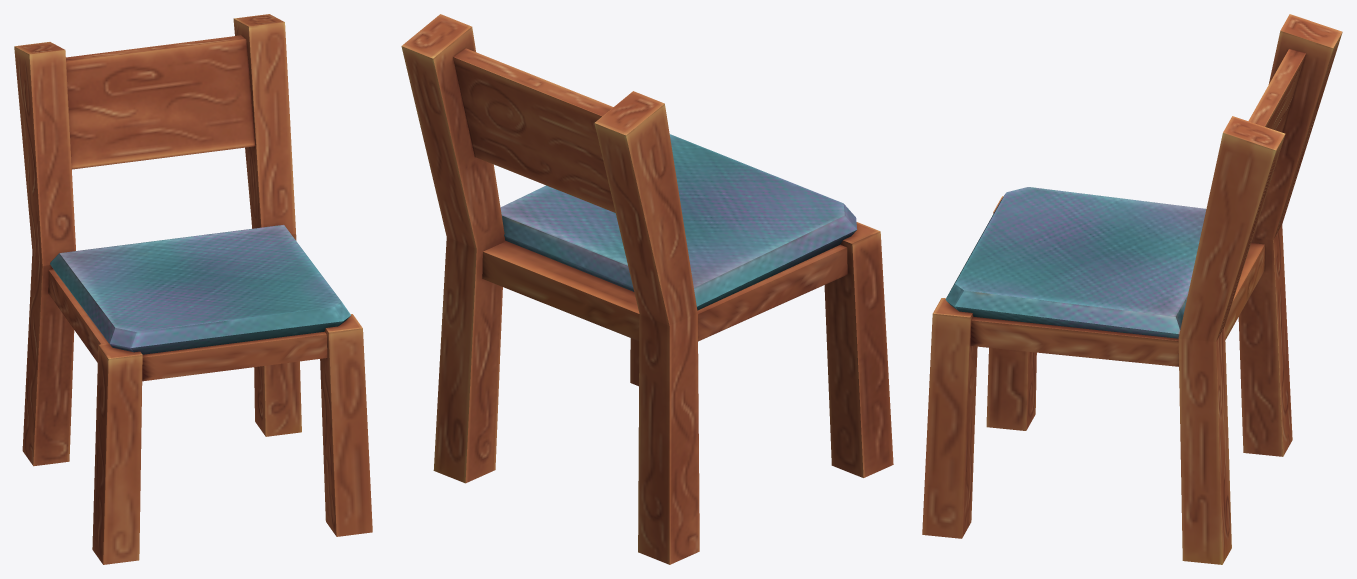
File: Chair2.fbx
3 views of the same model, side by side, from view 1: azimuth 30°, elevation 25°; view 2: azimuth 150°, elevation 25°; view 3: azimuth 270°, elevation 25° (orthographic). The views are drawn at different scales.
Visible parts, largest first — view 1: ChairModel; view 2: ChairModel; view 3: ChairModel.
Part boxes in pixels (box(x1,y1,x2,y2)): ChairModel: box(14, 14, 372, 564); ChairModel: box(401, 14, 893, 564); ChairModel: box(922, 14, 1342, 564).
Bounding box in the file's own units: 109 × 140 × 124.
